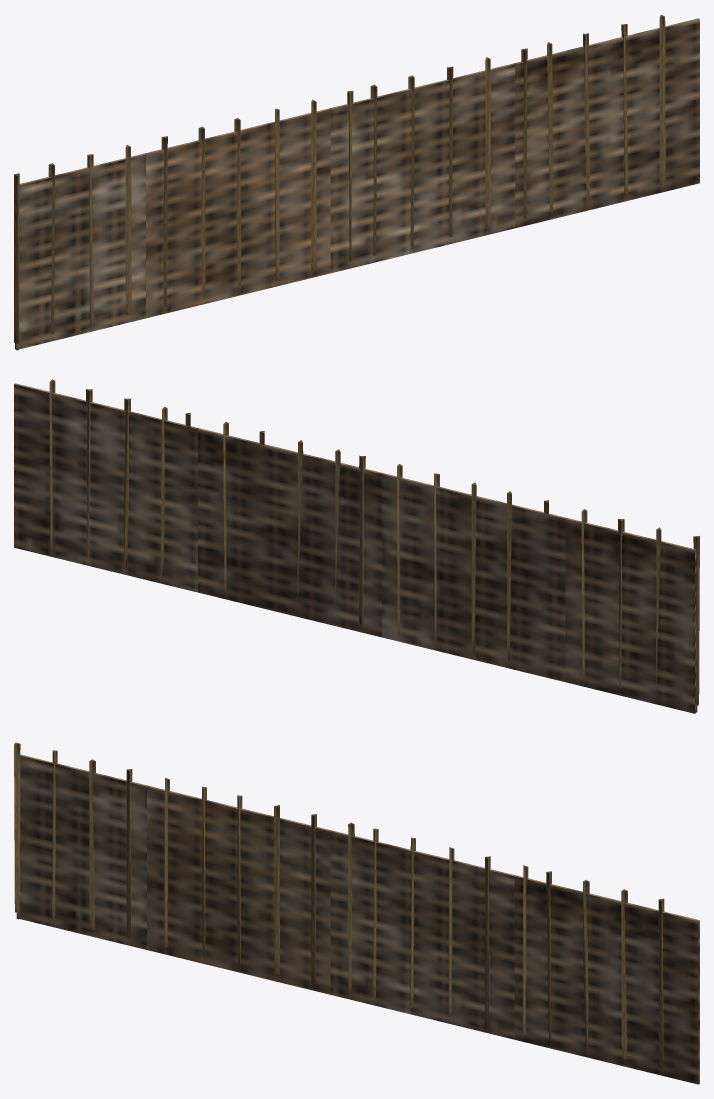
Rendered from wicker_fence_a_large.dae.
3 views of the same model, one above another, from view 1: azimuth 30°, elevation 25°; view 2: azimuth 150°, elevation 25°; view 3: azimuth 330°, elevation 25° (orthographic).
Visible parts, largest first — view 1: fence_b_large; view 2: fence_b_large; view 3: fence_b_large.
Boxes of the visible parts, x1,y1,x2,y2 form: fence_b_large: (14, 14, 699, 350); fence_b_large: (14, 379, 699, 713); fence_b_large: (14, 742, 699, 1084).
Size of the model in its own units: 16.61 by 0.2078 by 4.08.
